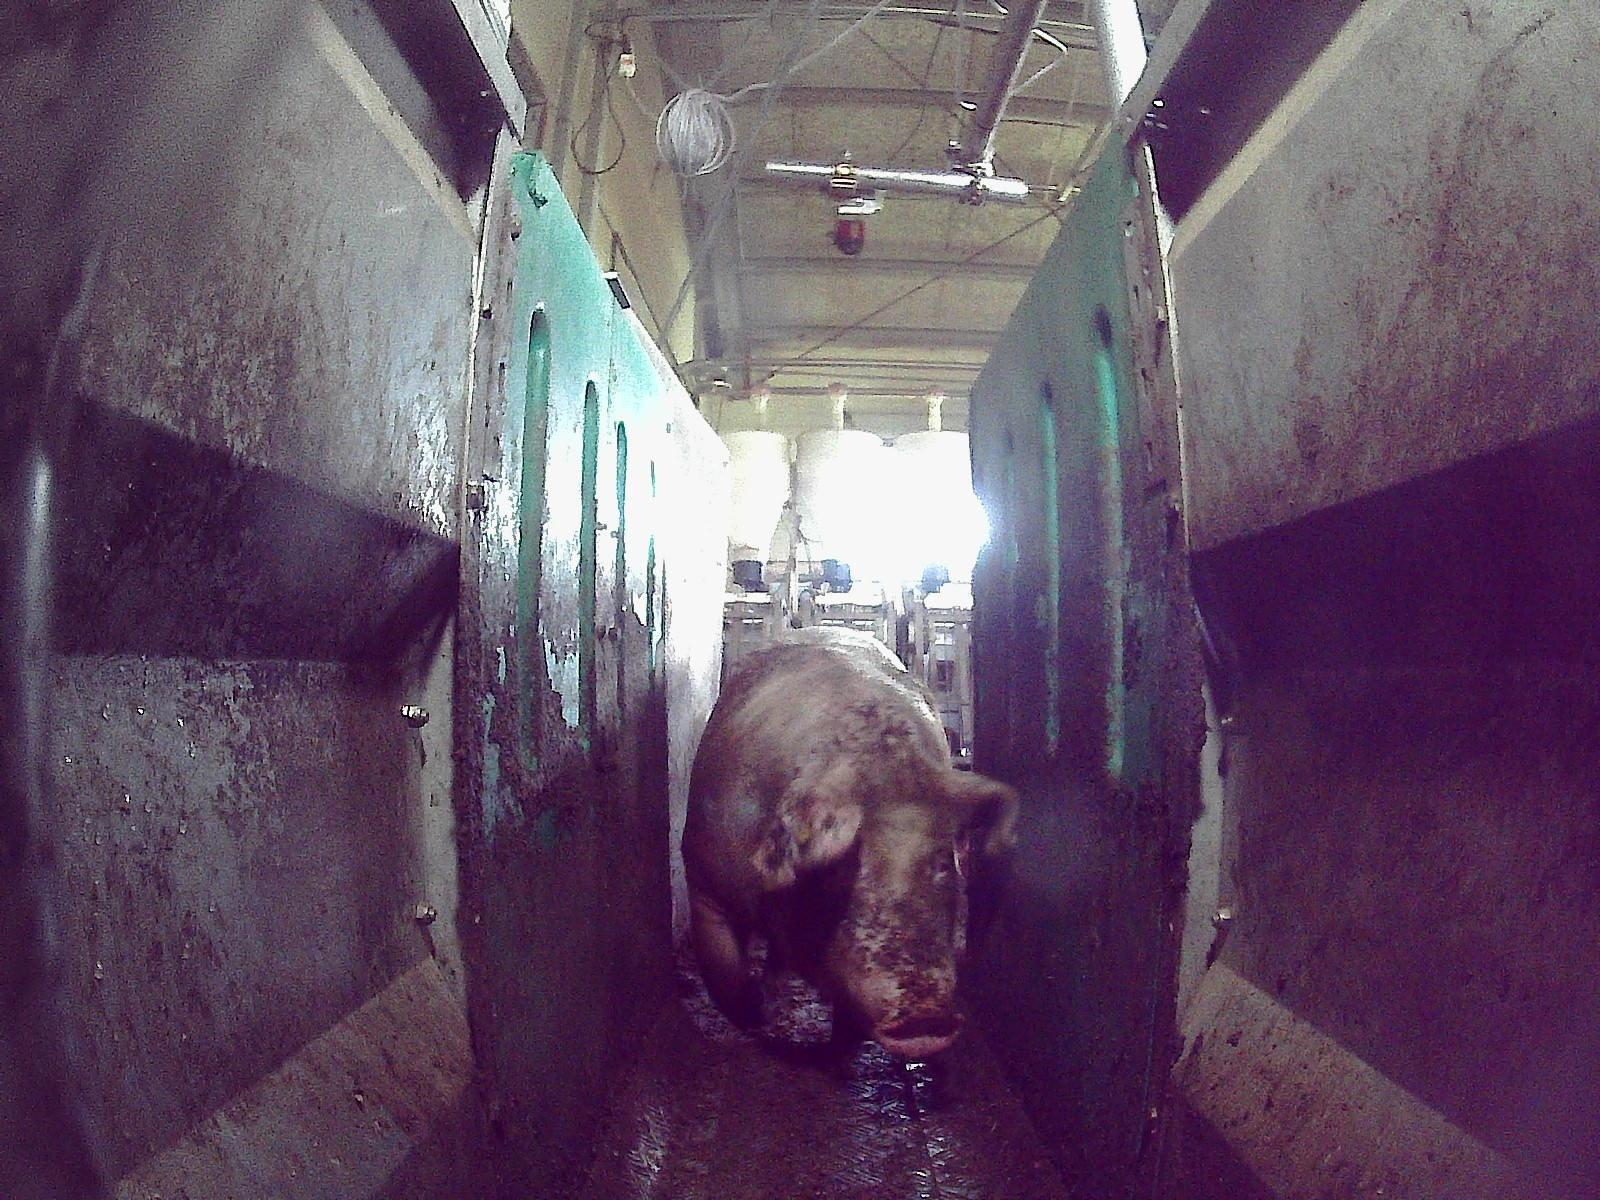Face: (770, 760, 973, 1059)
